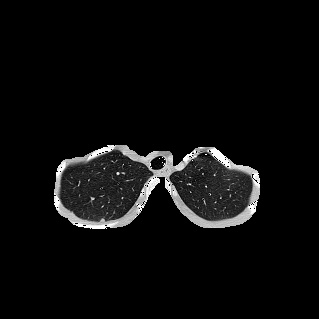PN: (100, 218, 104, 222)
